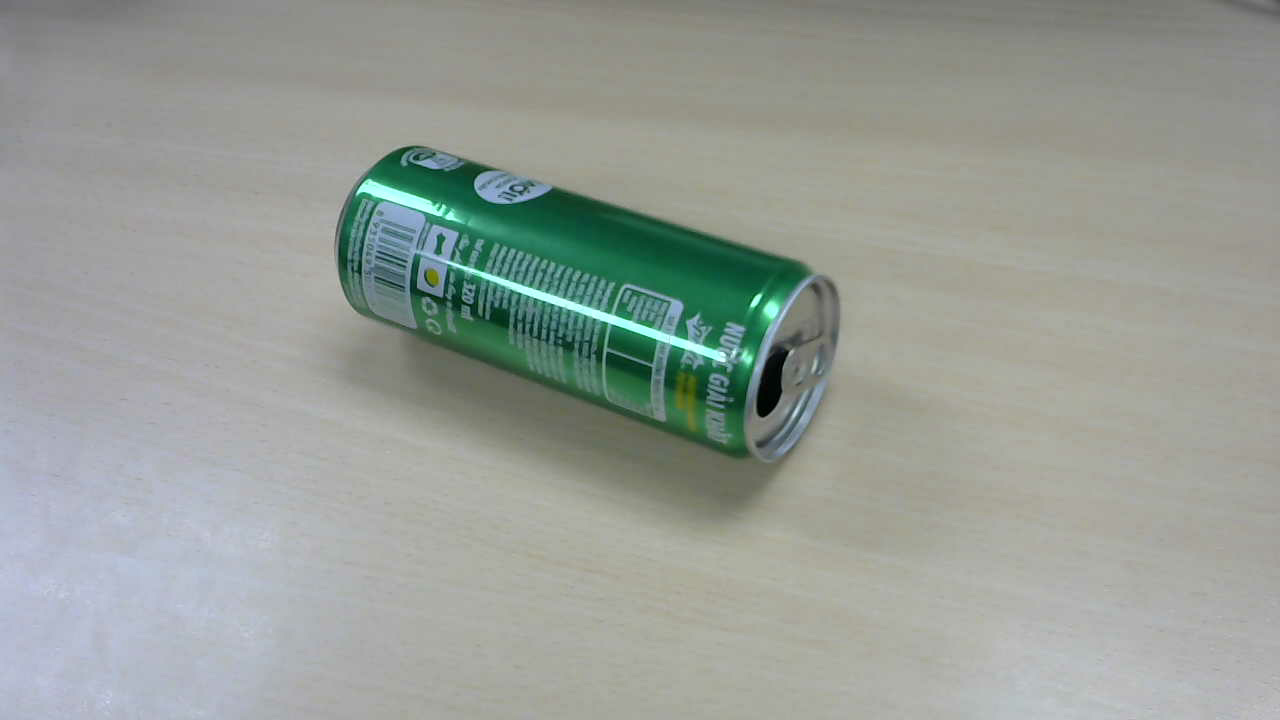Sprite: (327, 139, 856, 474)
